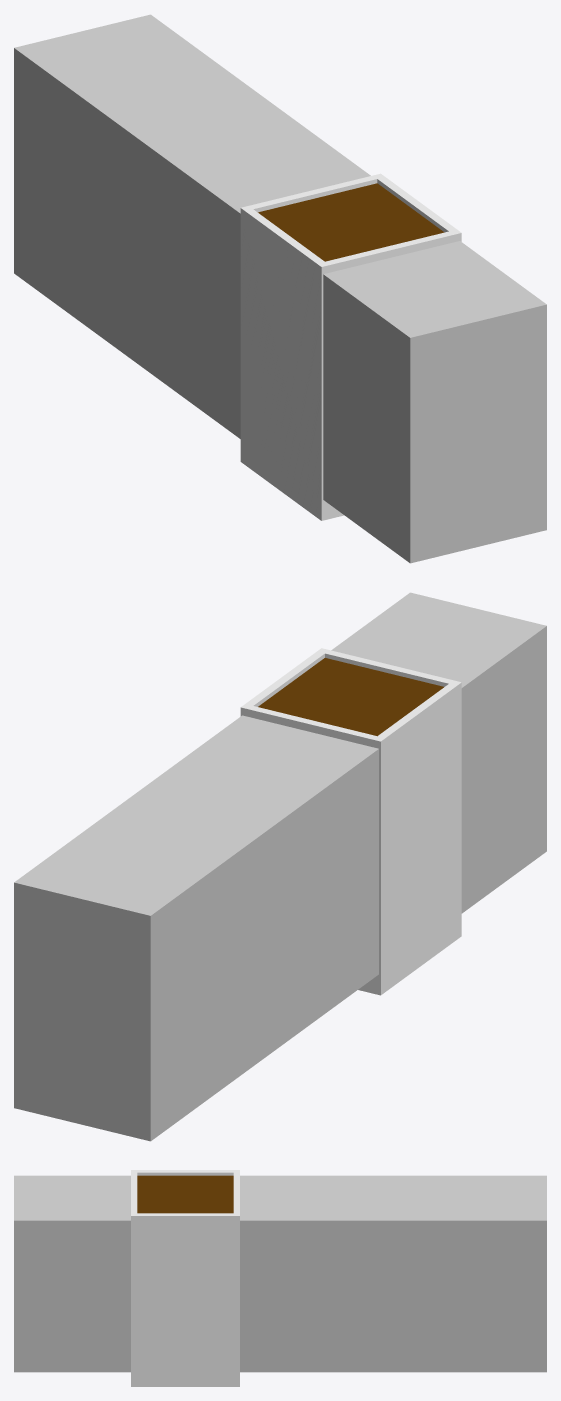
File: basic lab desk.fbx
3 views of the same model, one above another, from view 1: azimuth 30°, elevation 25°; view 2: azimuth 150°, elevation 25°; view 3: azimuth 270°, elevation 25° (orthographic). The views are drawn at different scales.
Visible parts, largest first — view 1: Cube.002, Cube, Cube.001; view 2: Cube.002, Cube, Cube.001; view 3: Cube.002, Cube, Cube.001.
Boxes of the visible parts, x1,y1,x2,y2 form: Cube.002: [14, 14, 546, 563]; Cube: [240, 173, 461, 520]; Cube.001: [258, 183, 444, 261]; Cube.002: [14, 592, 546, 1141]; Cube: [240, 648, 461, 995]; Cube.001: [258, 658, 443, 736]; Cube.002: [14, 1175, 546, 1372]; Cube: [131, 1170, 239, 1386]; Cube.001: [137, 1175, 233, 1213].
Size of the model in its own units: 458 by 792 by 2239.
